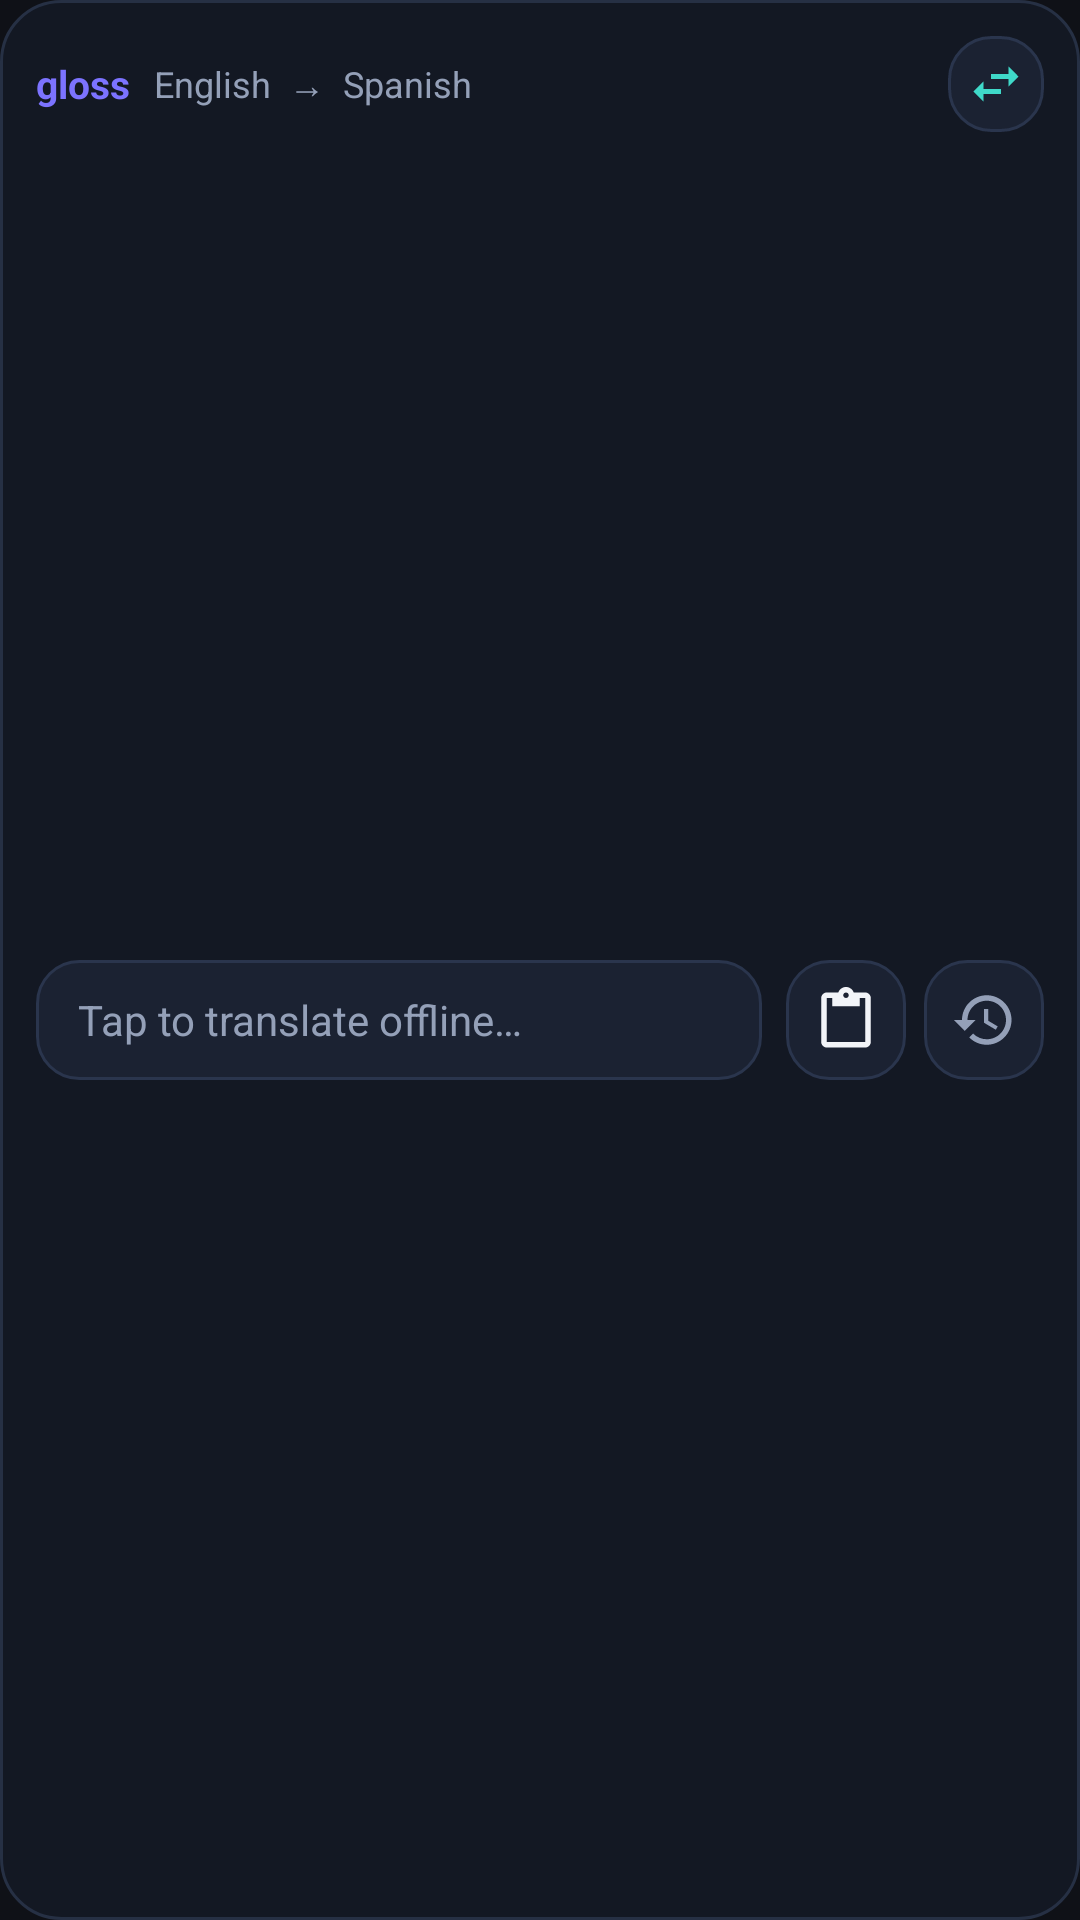

Named icons in this screenshot (1080px×1920px) and their bounding boxes, box(x1, y1, x2, y2):
Paste and translate: box(786, 960, 906, 1080)
Recent phrases: box(924, 960, 1044, 1080)
Swap languages: box(948, 36, 1044, 132)
